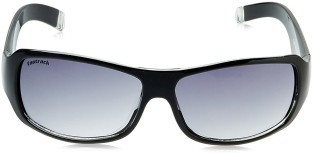sunglasses: (1, 1, 312, 151)
